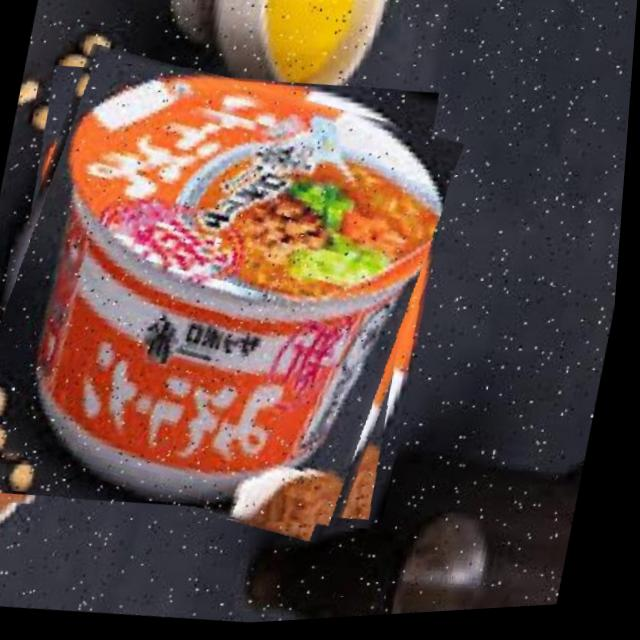Miscellaneous: (0, 37, 471, 554)
